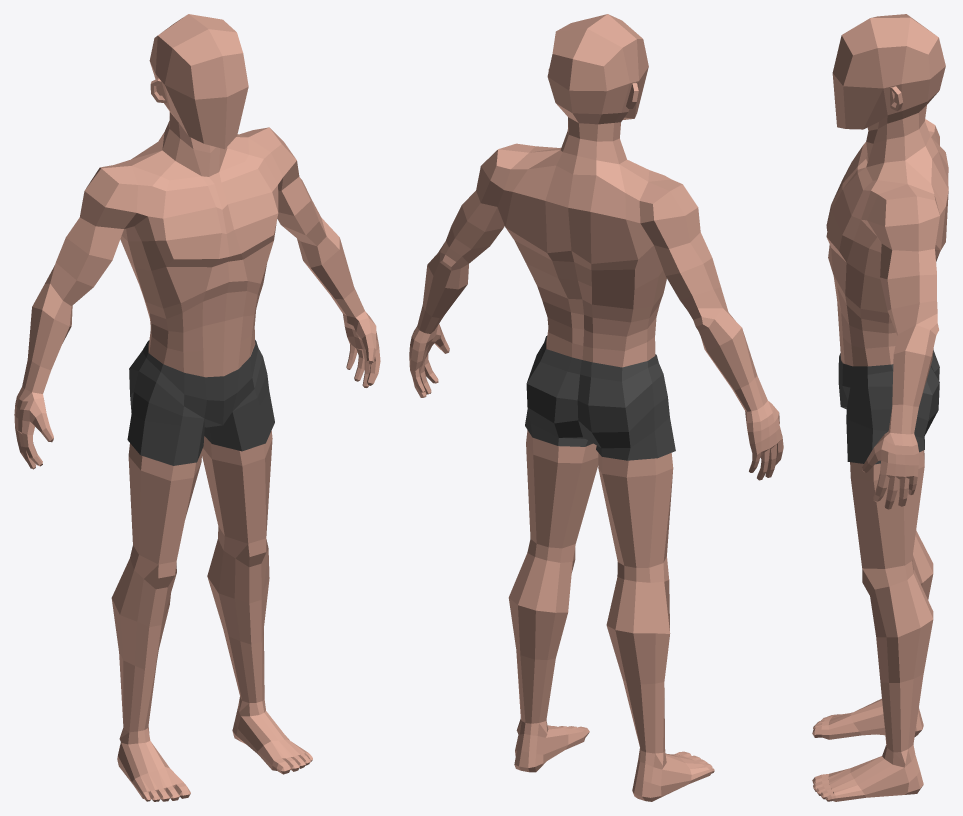
The model's file is Low_poly_man.fbx.
The picture shows the model from 3 angles, left to right: view 1: azimuth 30°, elevation 25°; view 2: azimuth 150°, elevation 25°; view 3: azimuth 270°, elevation 25°; orthographic projection. The views are drawn at different scales.
Parts seen in each view (by area): view 1: Low poly man; view 2: Low poly man; view 3: Low poly man.
Part boxes in pixels (bbox=[...]): Low poly man: bbox=[14, 14, 380, 801]; Low poly man: bbox=[409, 14, 783, 801]; Low poly man: bbox=[812, 14, 948, 801].
Bounding box in the file's own units: 88.29 × 174 × 28.97.
